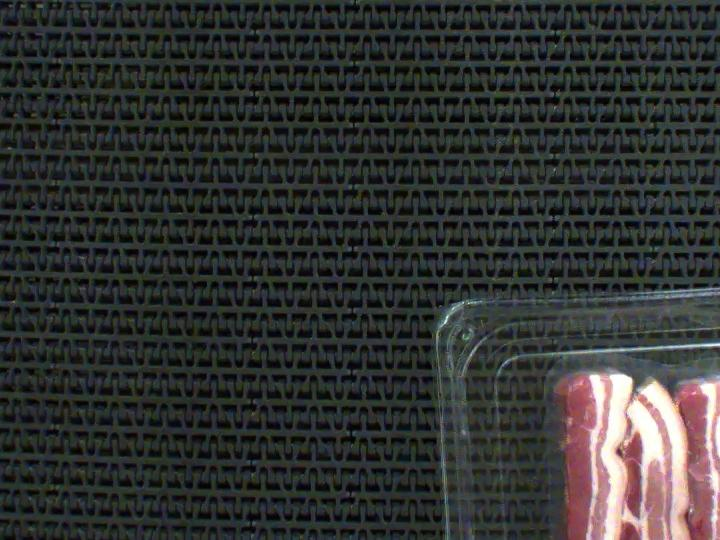unsealed: (549, 352, 720, 540)
